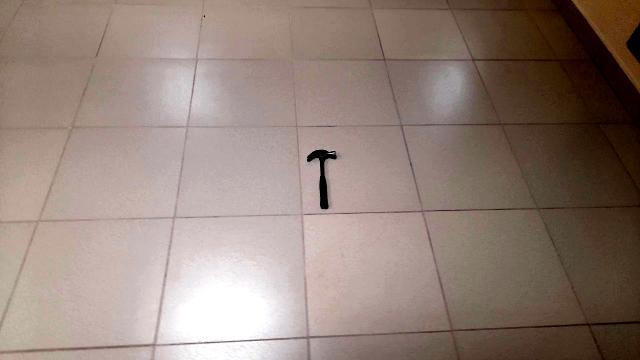hammer: (302, 149, 348, 215)
